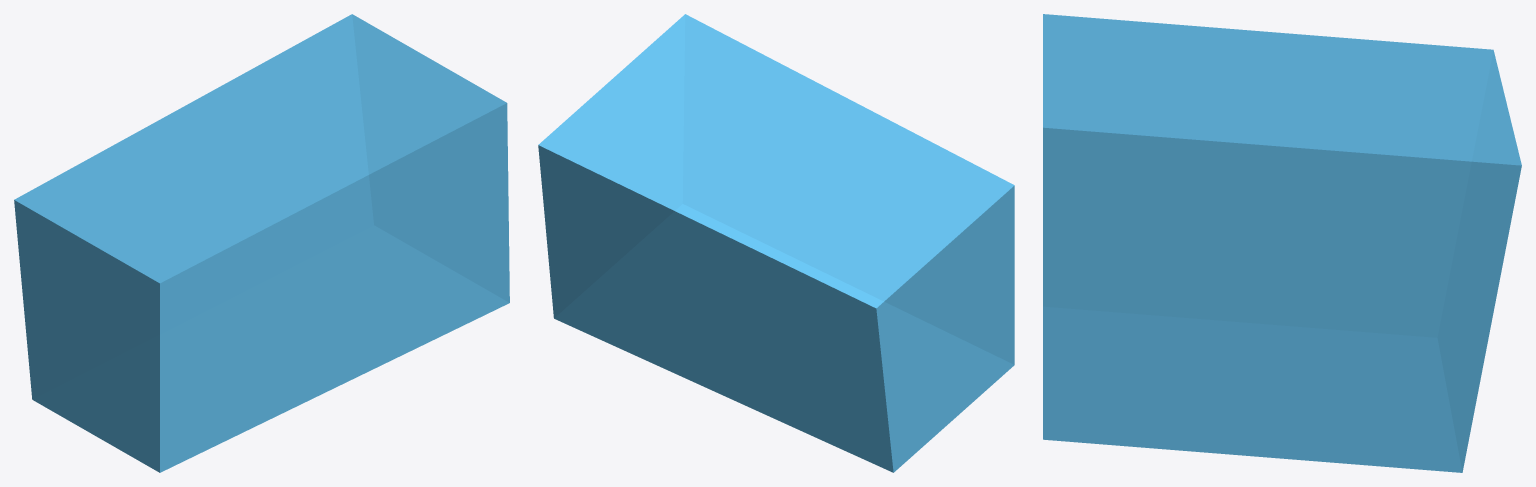
The model's file is Event_421278790_HErechit_12.fbx.
The picture shows the model from 3 angles, left to right: view 1: azimuth 30°, elevation 25°; view 2: azimuth 150°, elevation 25°; view 3: azimuth 270°, elevation 25°; orthographic projection. The views are drawn at different scales.
Parts seen in each view (by area): view 1: Model; view 2: Model; view 3: Model.
Part boxes in pixels (x1,y1,x2,y2): Model: (14,14,509,472); Model: (538,14,1014,472); Model: (1043,14,1521,472).
Bounding box in the file's own units: 0.6451 × 0.5383 × 0.4951.
